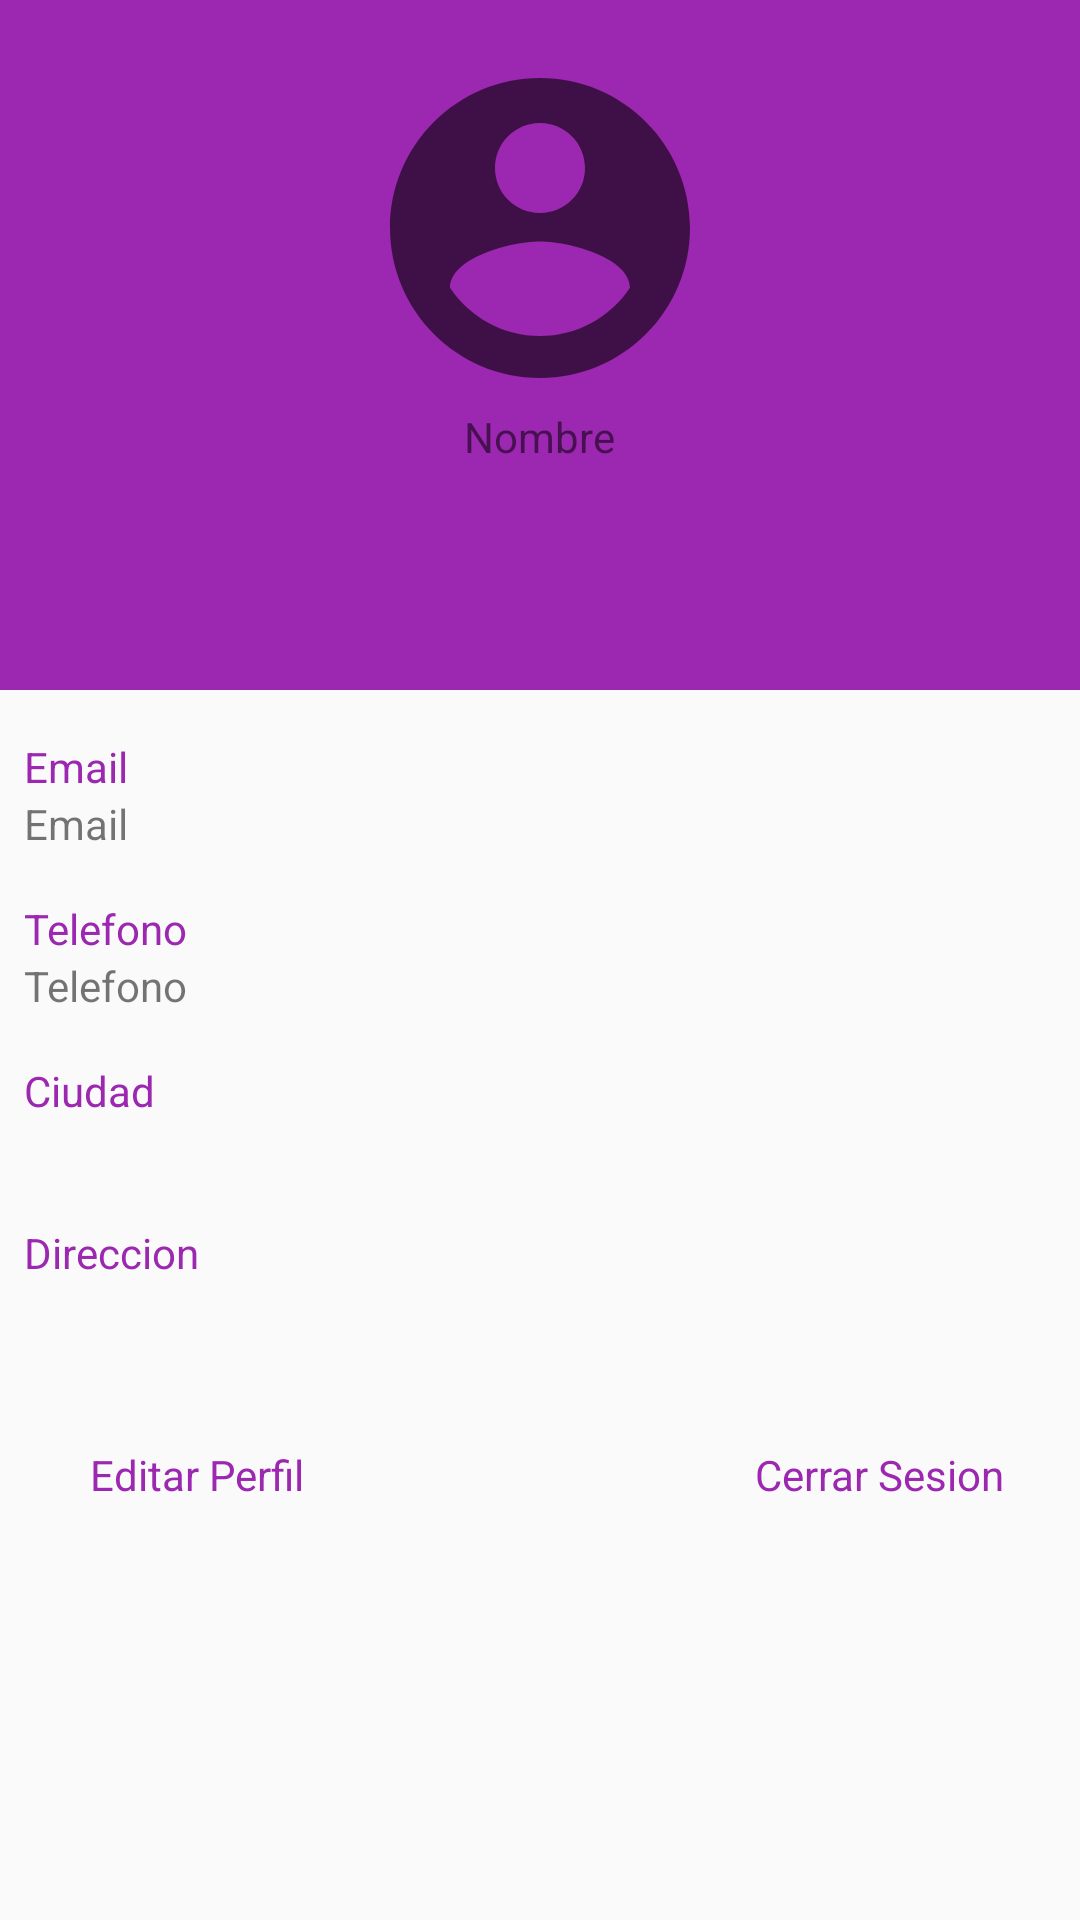

Where icons sit on this 1080w x 1920h app screen, as (x1, y1, x2, y2):
account circle: (390, 78, 690, 378)
